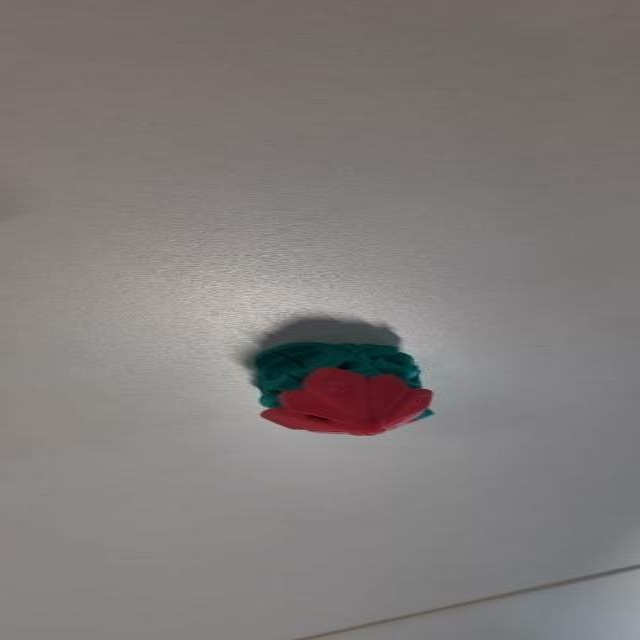House: (232, 335, 436, 442)
